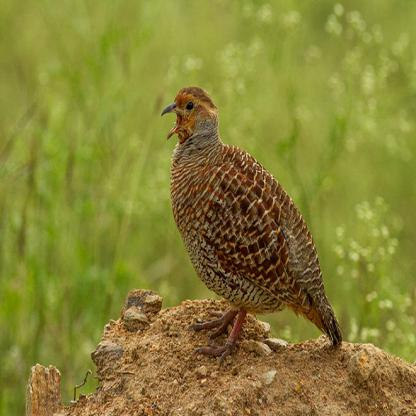Burung: (160, 86, 341, 365)
